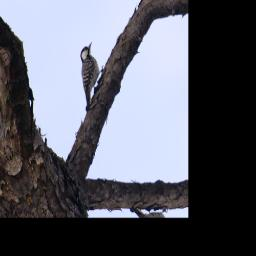Woodpecker: (61, 35, 118, 117)
